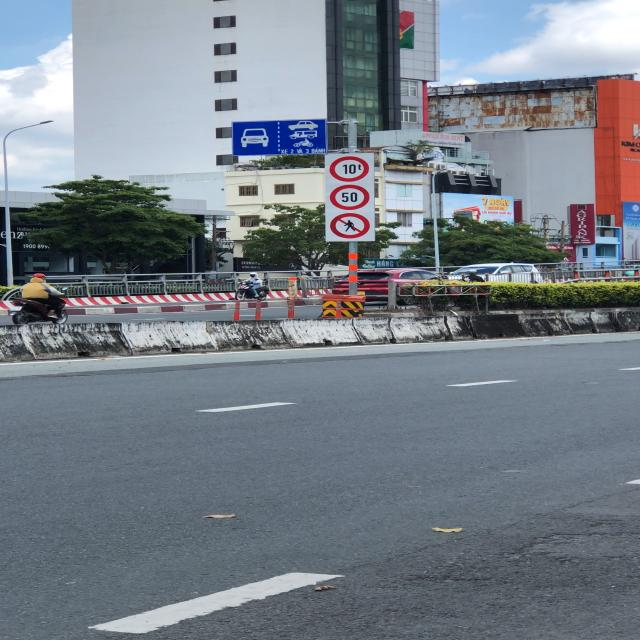Bien bao cam nguoi di bo: (328, 212, 372, 240)
Bien bao toc do toi da cho phep: (327, 183, 369, 212)
